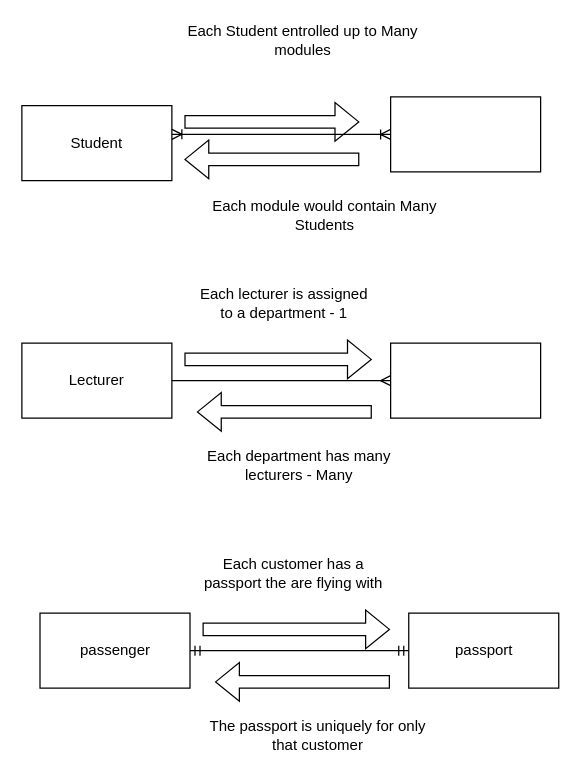
Image size: 581x775. Some labels were removed from this diagram. The shapes that lost their labels are listed below. From the top down, each one's centre as x and y in pixels, then its label:
(465,134): Module
(465,380): Department
